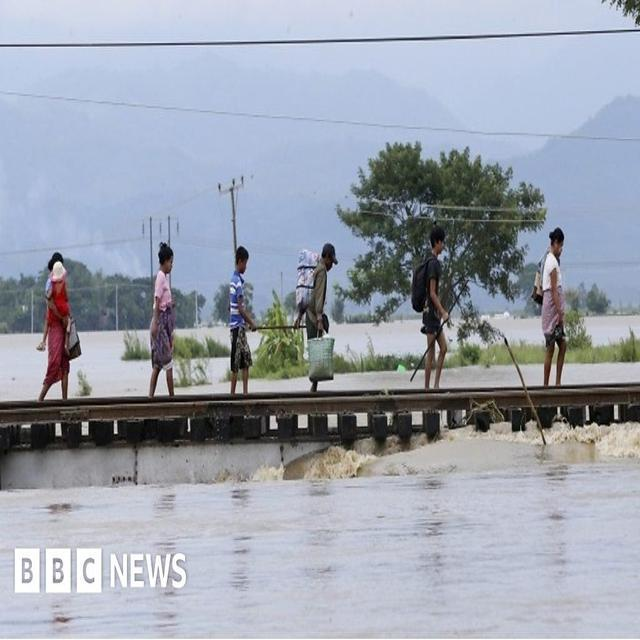Person-RiskLevel3: (523, 226, 589, 401), (284, 235, 354, 398), (403, 229, 461, 402), (137, 238, 198, 400), (30, 245, 85, 406), (218, 240, 267, 392)
